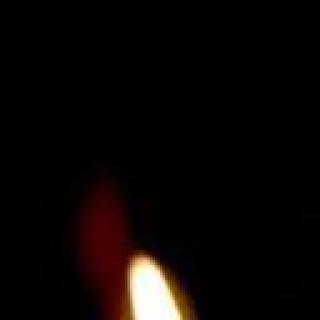fire: (126, 255, 221, 320)
